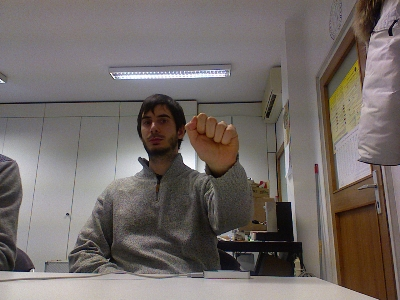石头: (184, 112, 239, 170)
